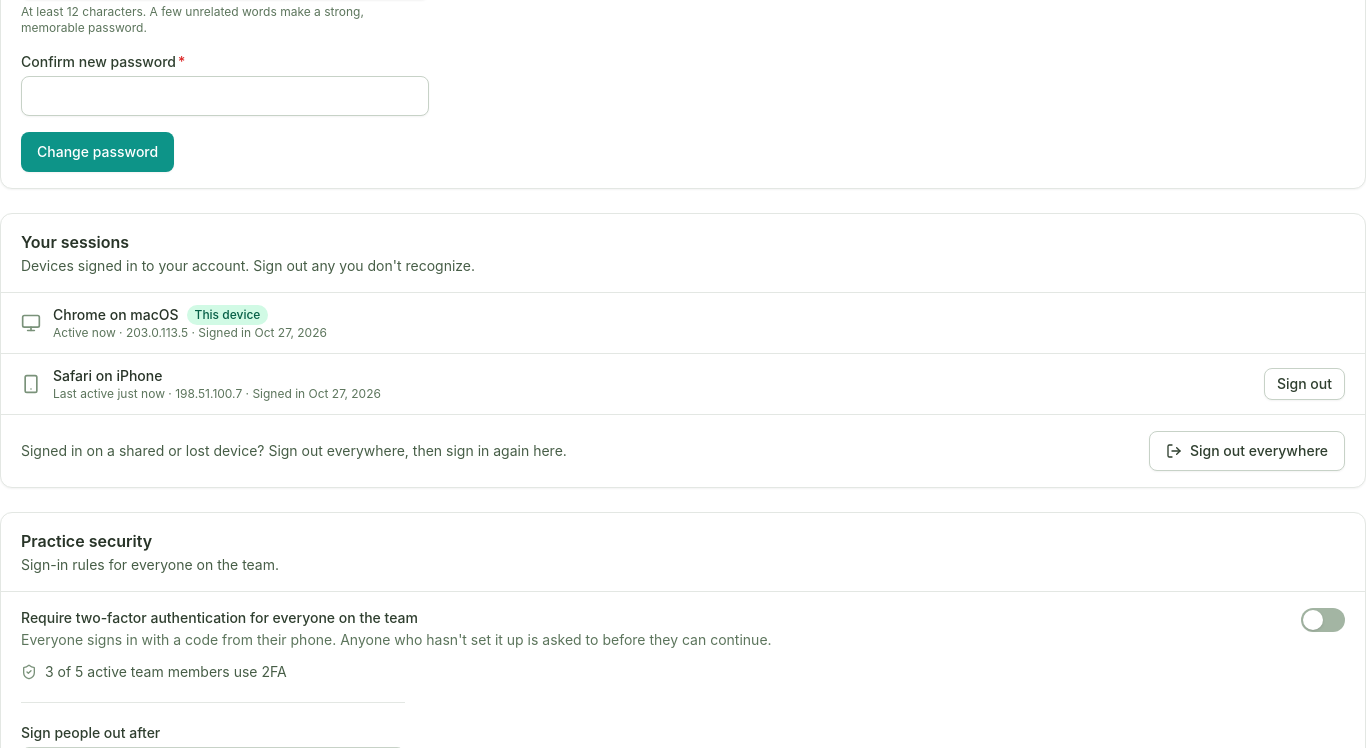
Test case: SecuritySettings › your sessions › marks this device and signs out another one
(page scrolled)
Expected: the text "This device" is shown, [186,305,268,325]
Click the button with aria-label "Sign out Safari on iPhone" at (1304, 384), box [1264,368,1345,400]
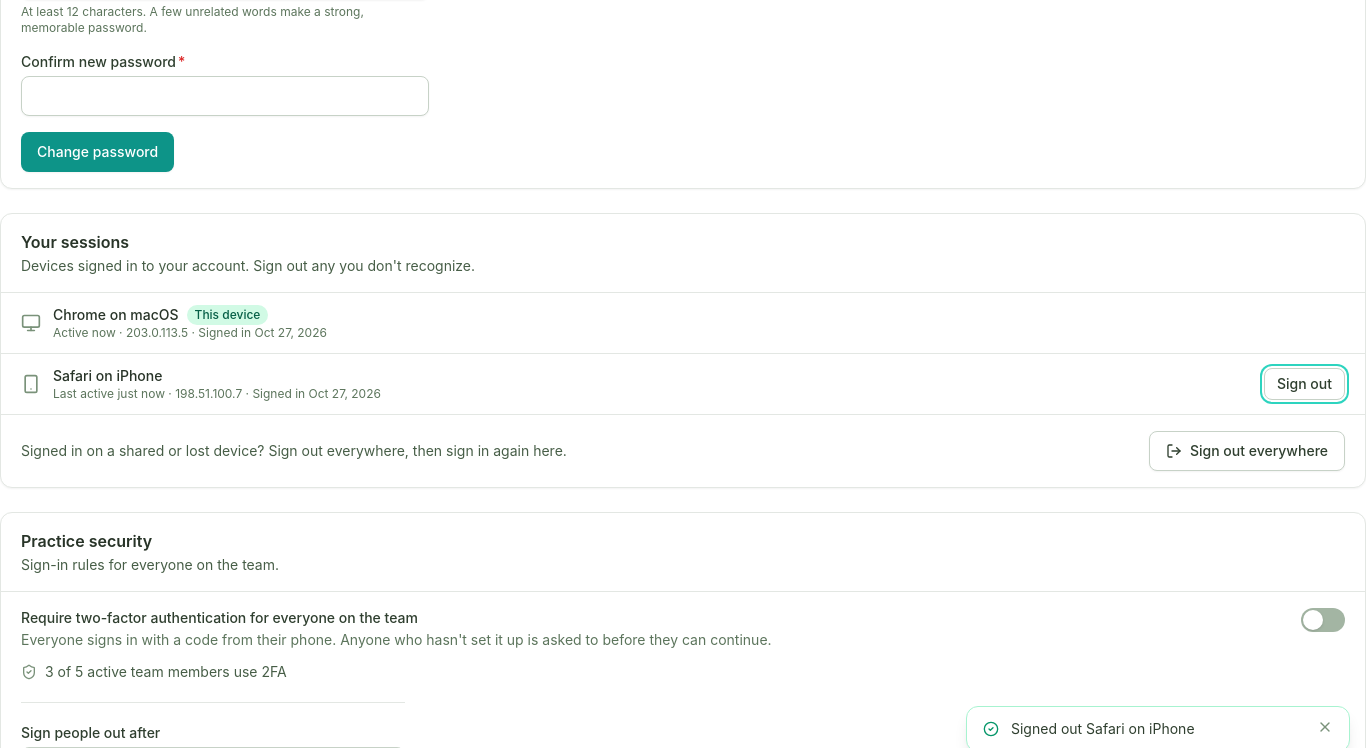
Result: the text "Signed out Safari on iPhone" is shown at [1011,720,1194,737]
